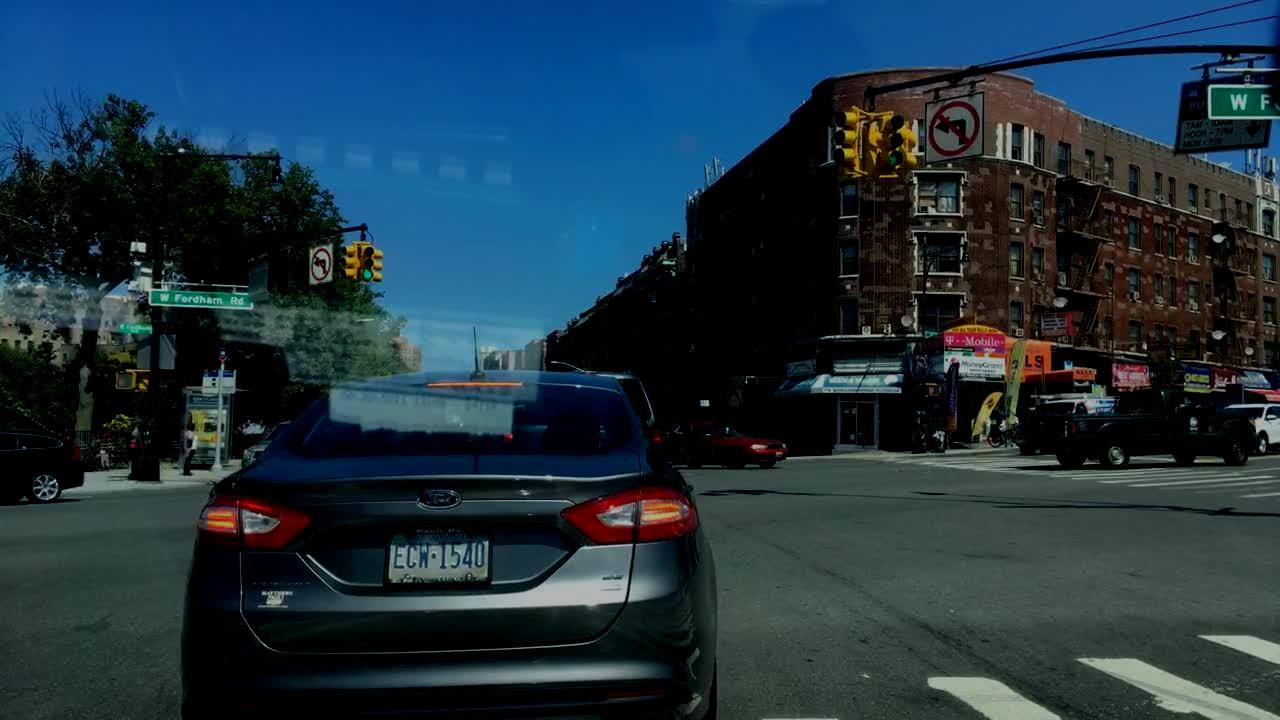ford: (416, 485, 467, 512)
